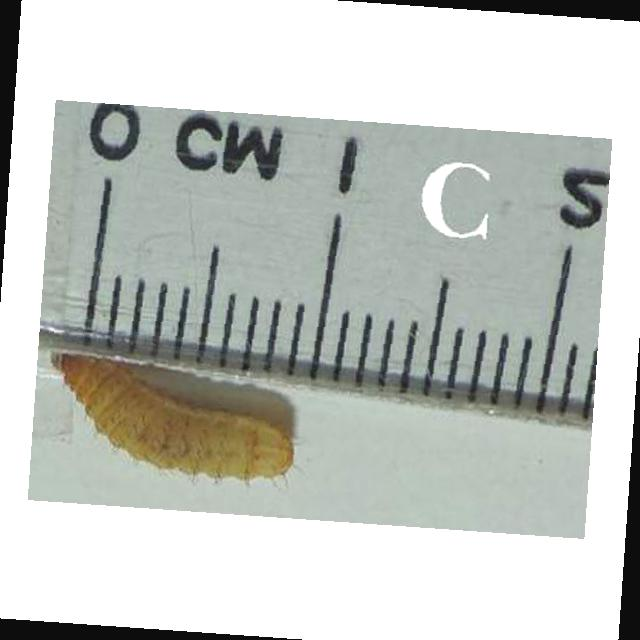Maggot: (42, 350, 297, 489)
